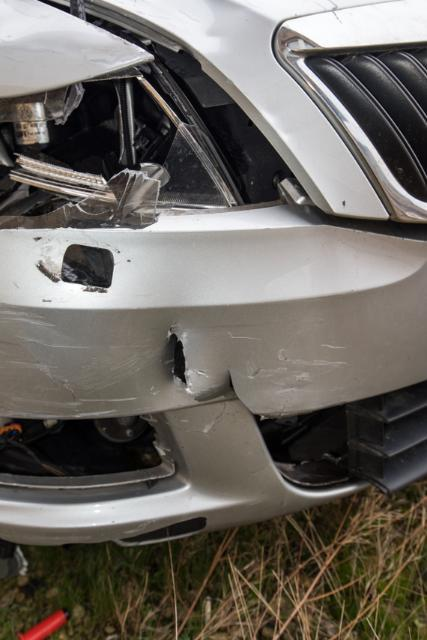Bumper: (15, 230, 349, 512)
Light: (5, 76, 289, 218)
